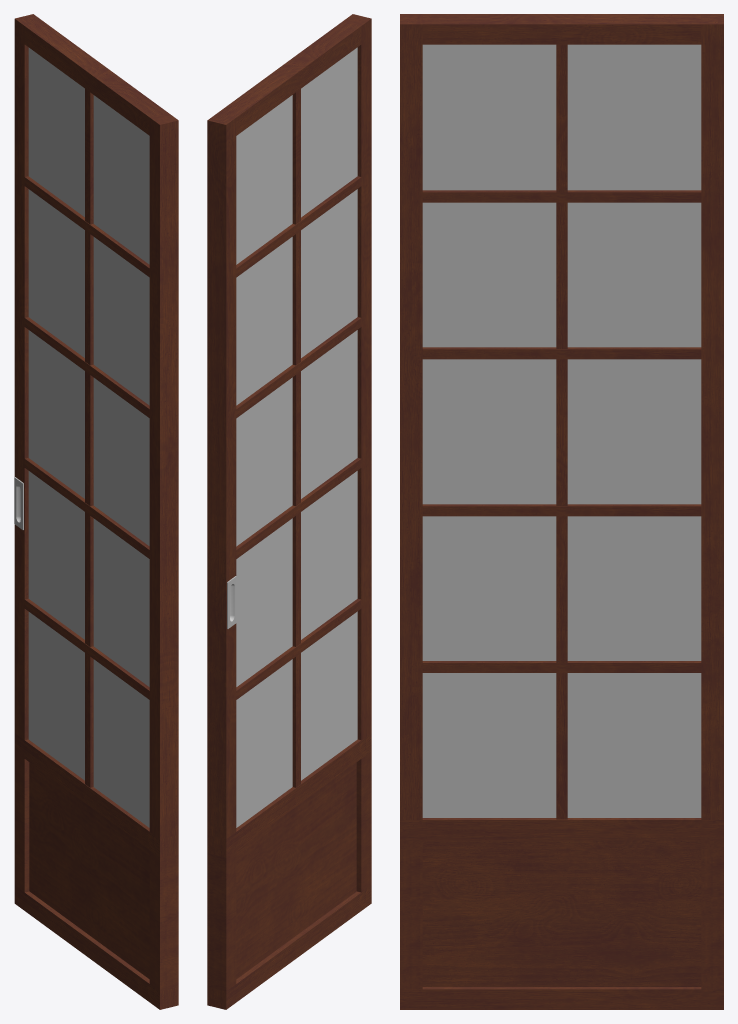
The model's file is SM_InnerDoor01U.fbx.
3 renders of one model, left to right at view 1: azimuth 30°, elevation 25°; view 2: azimuth 150°, elevation 25°; view 3: azimuth 270°, elevation 25°, orthographic. The views are drawn at different scales.
Parts seen in each view (by area): view 1: SM_InnerDoor01U; view 2: SM_InnerDoor01U; view 3: SM_InnerDoor01U.
Part boxes in pixels (x1,y1,x2,y2): SM_InnerDoor01U: [14, 14, 178, 1009]; SM_InnerDoor01U: [207, 14, 371, 1009]; SM_InnerDoor01U: [400, 14, 723, 1009].
Size of the model in its own units: 4.92 by 62.13 by 209.
